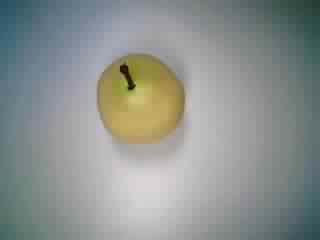pear: (86, 46, 194, 150)
